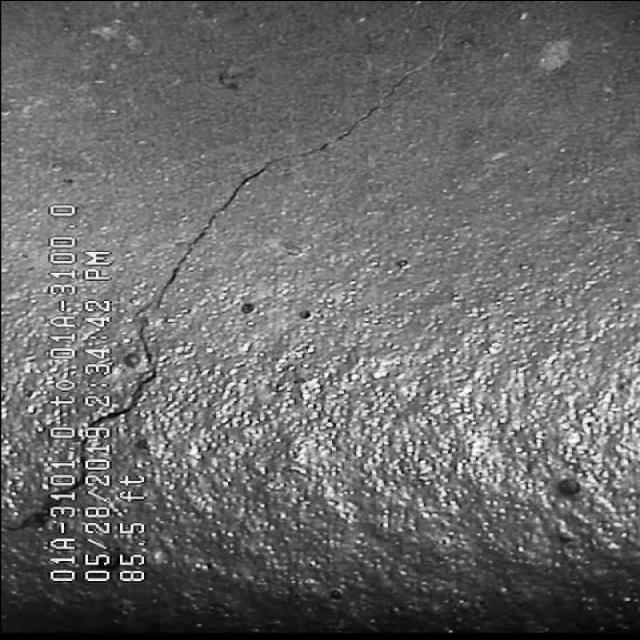Crack: (150, 64, 426, 280)
